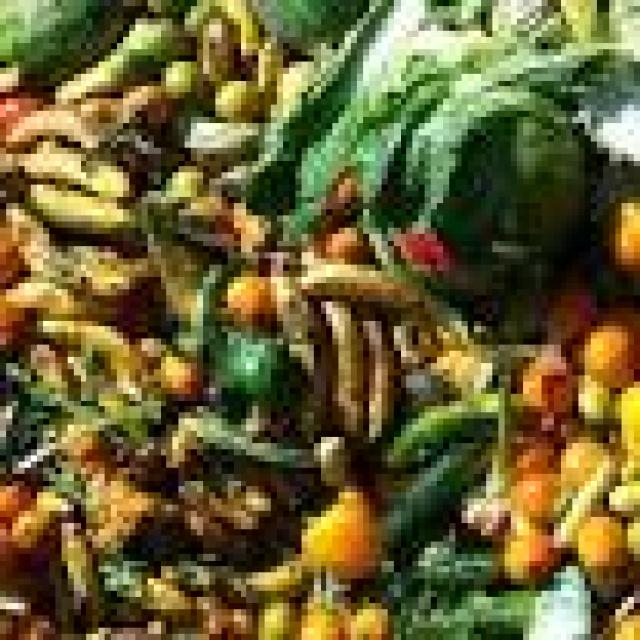food_waste: (63, 93, 549, 592)
